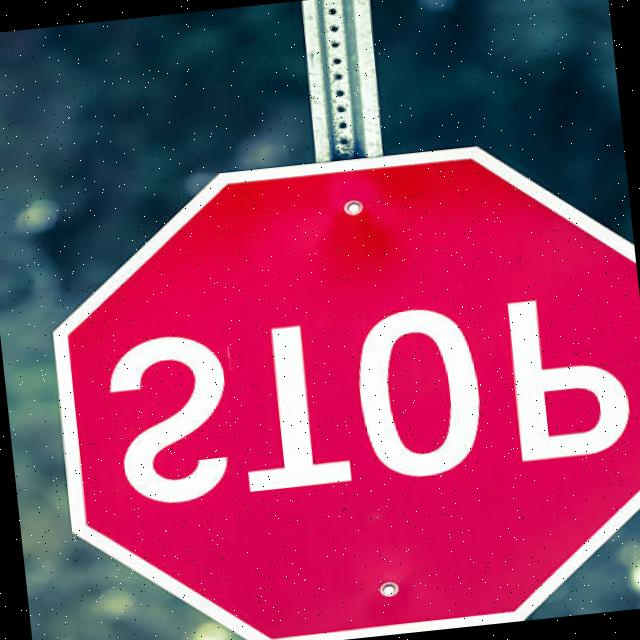stop: (11, 121, 640, 640)
